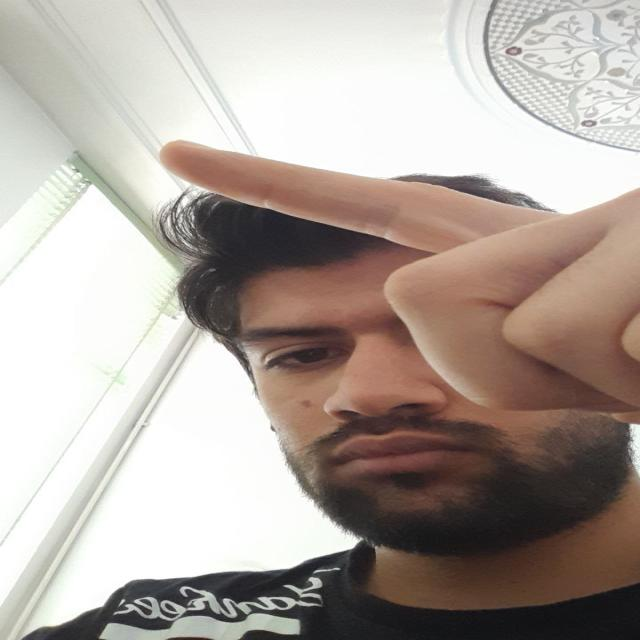Head: (164, 173, 638, 562)
One: (158, 136, 640, 422)
